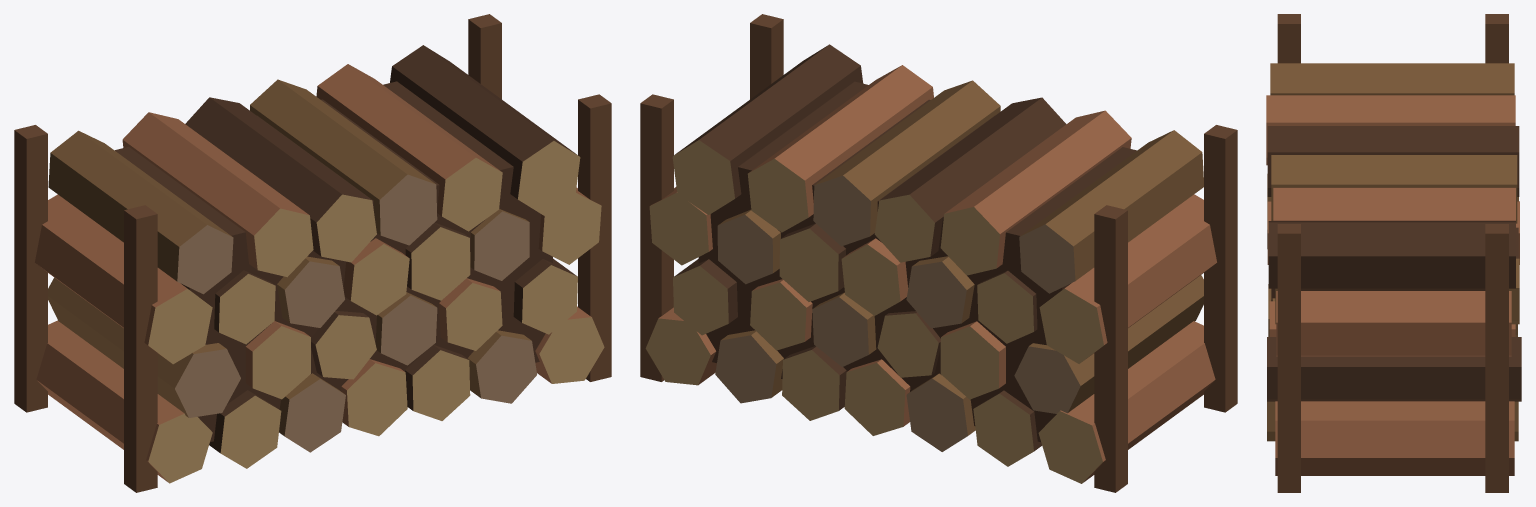
Rendered from firewood-stack-810f49.glb.
3 views of the same model, side by side, from view 1: azimuth 30°, elevation 25°; view 2: azimuth 150°, elevation 25°; view 3: azimuth 270°, elevation 25° (orthographic). The views are drawn at different scales.
Visible parts, largest first — view 1: firewood-stack-rick; view 2: firewood-stack-rick; view 3: firewood-stack-rick.
Part boxes in pixels (bbox=[...]): firewood-stack-rick: bbox=[14, 14, 611, 492]; firewood-stack-rick: bbox=[640, 14, 1237, 492]; firewood-stack-rick: bbox=[1266, 14, 1521, 492].
Bounding box in the file's own units: 2 × 1.1 × 0.9819.
